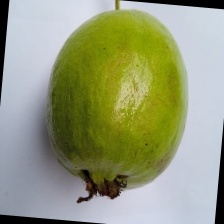guava: (31, 14, 224, 197)
